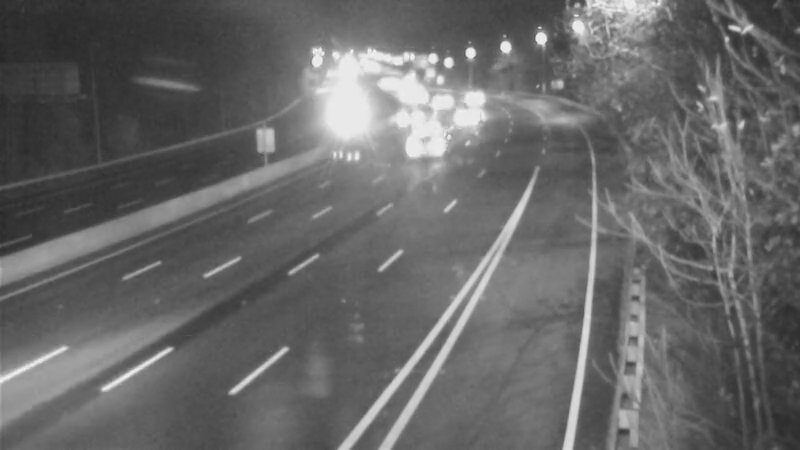vehicle: (451, 72, 501, 122), (411, 74, 461, 124), (438, 93, 488, 143), (379, 90, 429, 140), (404, 96, 454, 146), (399, 124, 449, 174)
